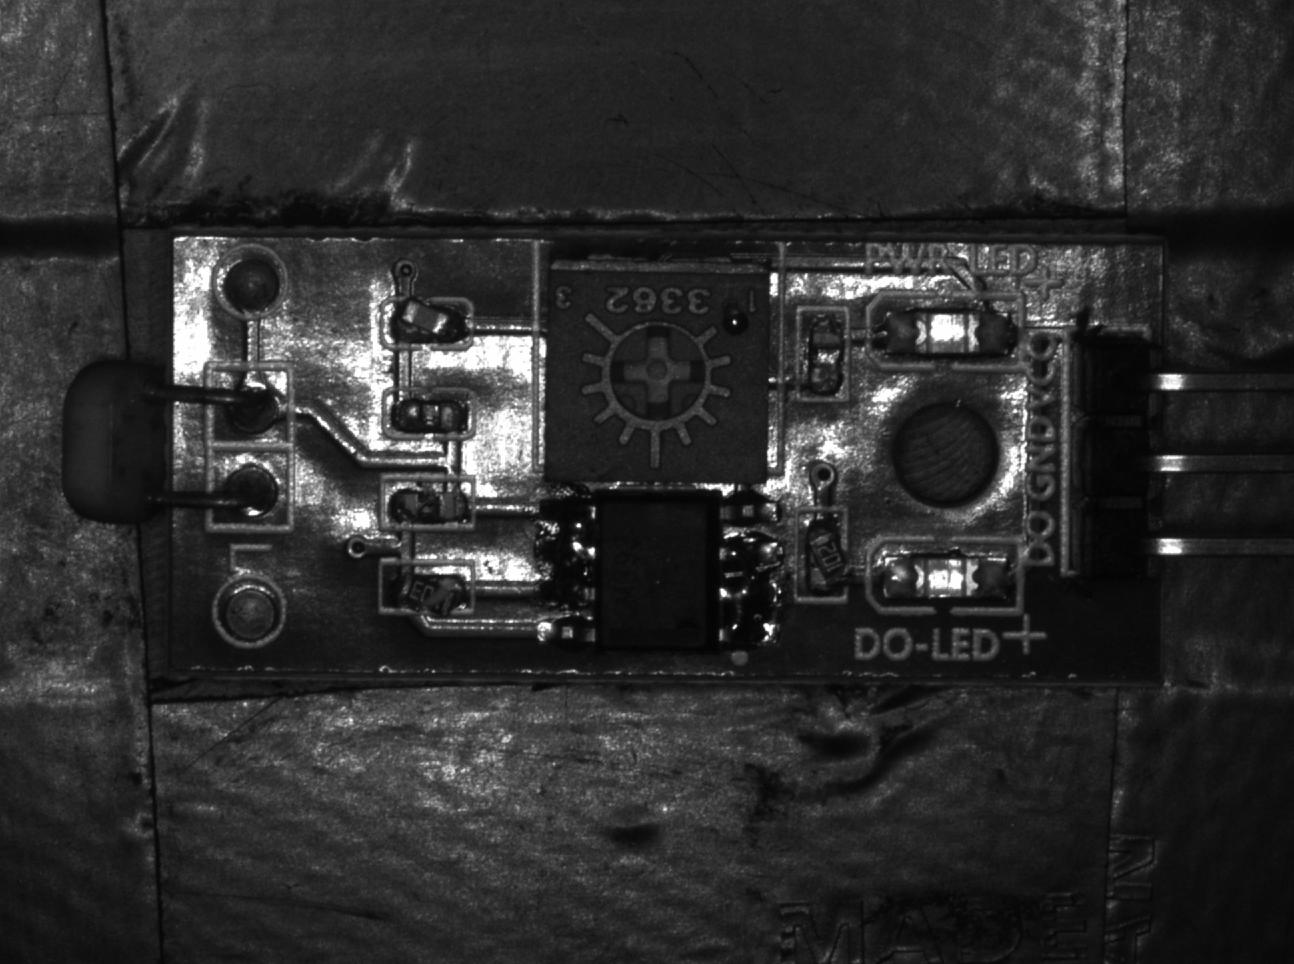bridge: (720, 533, 779, 647), (538, 494, 594, 611)
lifted: (377, 557, 475, 616), (380, 296, 471, 353), (797, 508, 850, 602)
miss: (384, 385, 475, 440), (382, 474, 473, 529), (799, 300, 846, 400)
